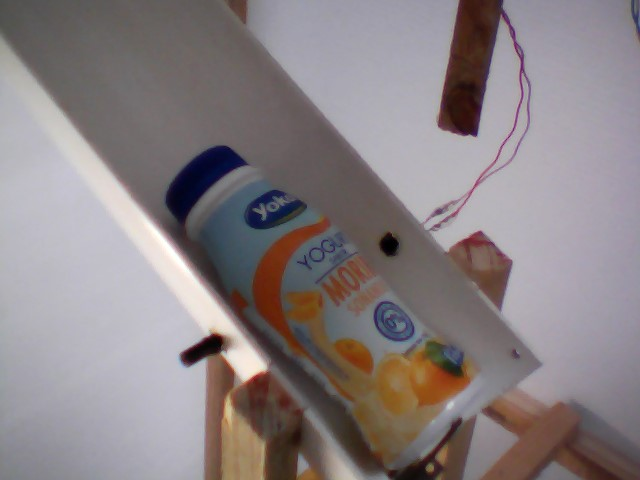plastico: (152, 143, 506, 480)
